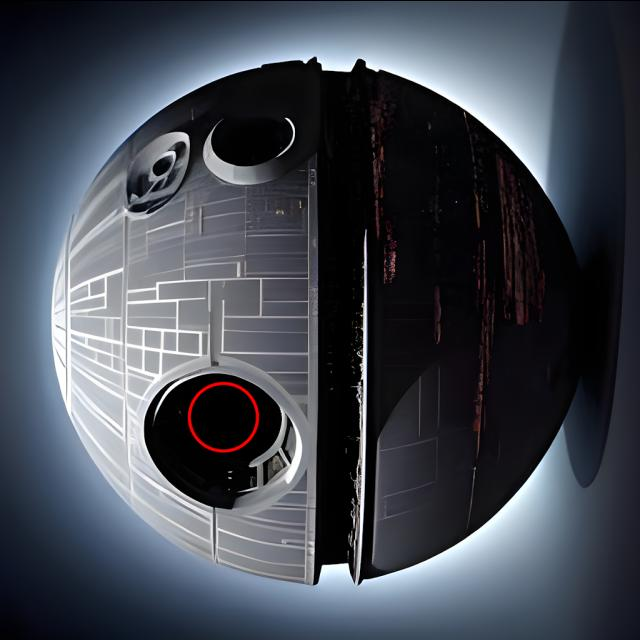Death-star: (51, 56, 598, 586)
